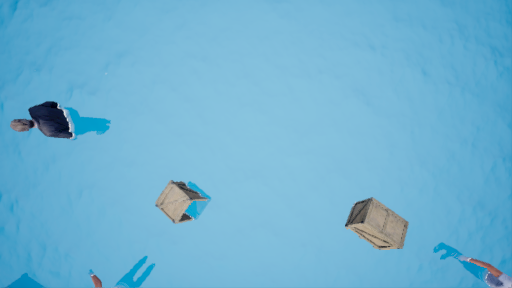person: (10, 95, 116, 140)
